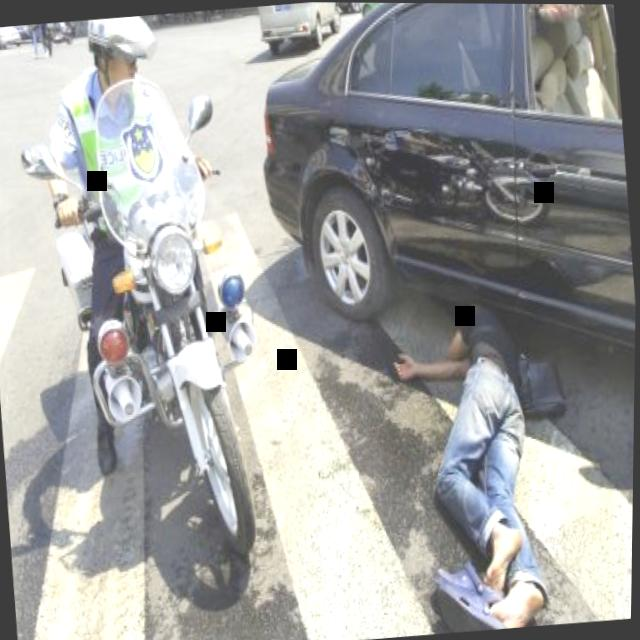Fall-Detected: (372, 262, 575, 636)
